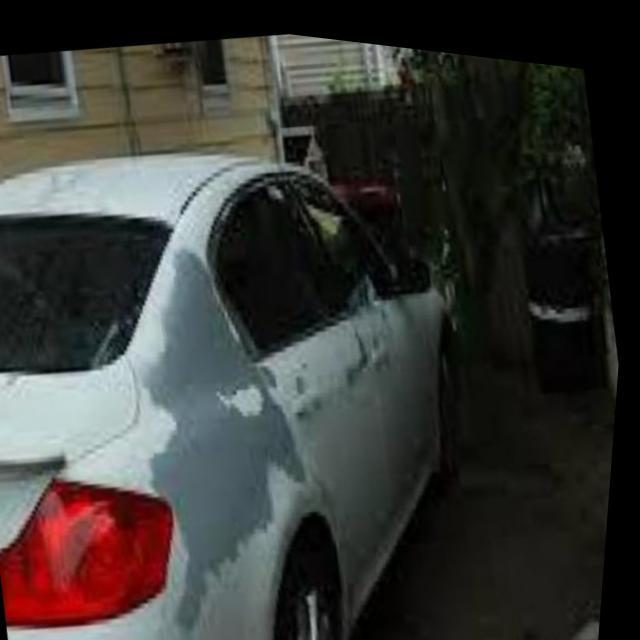rub: (133, 236, 333, 633)
